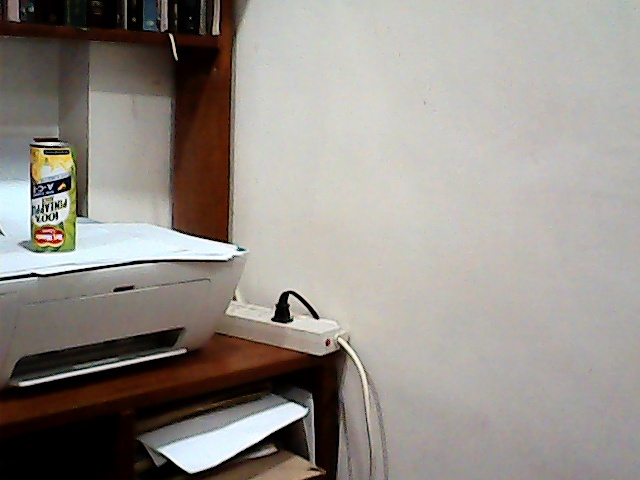Pine Juice: (19, 134, 84, 258)
